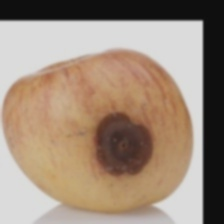apple: (59, 29, 202, 224)
